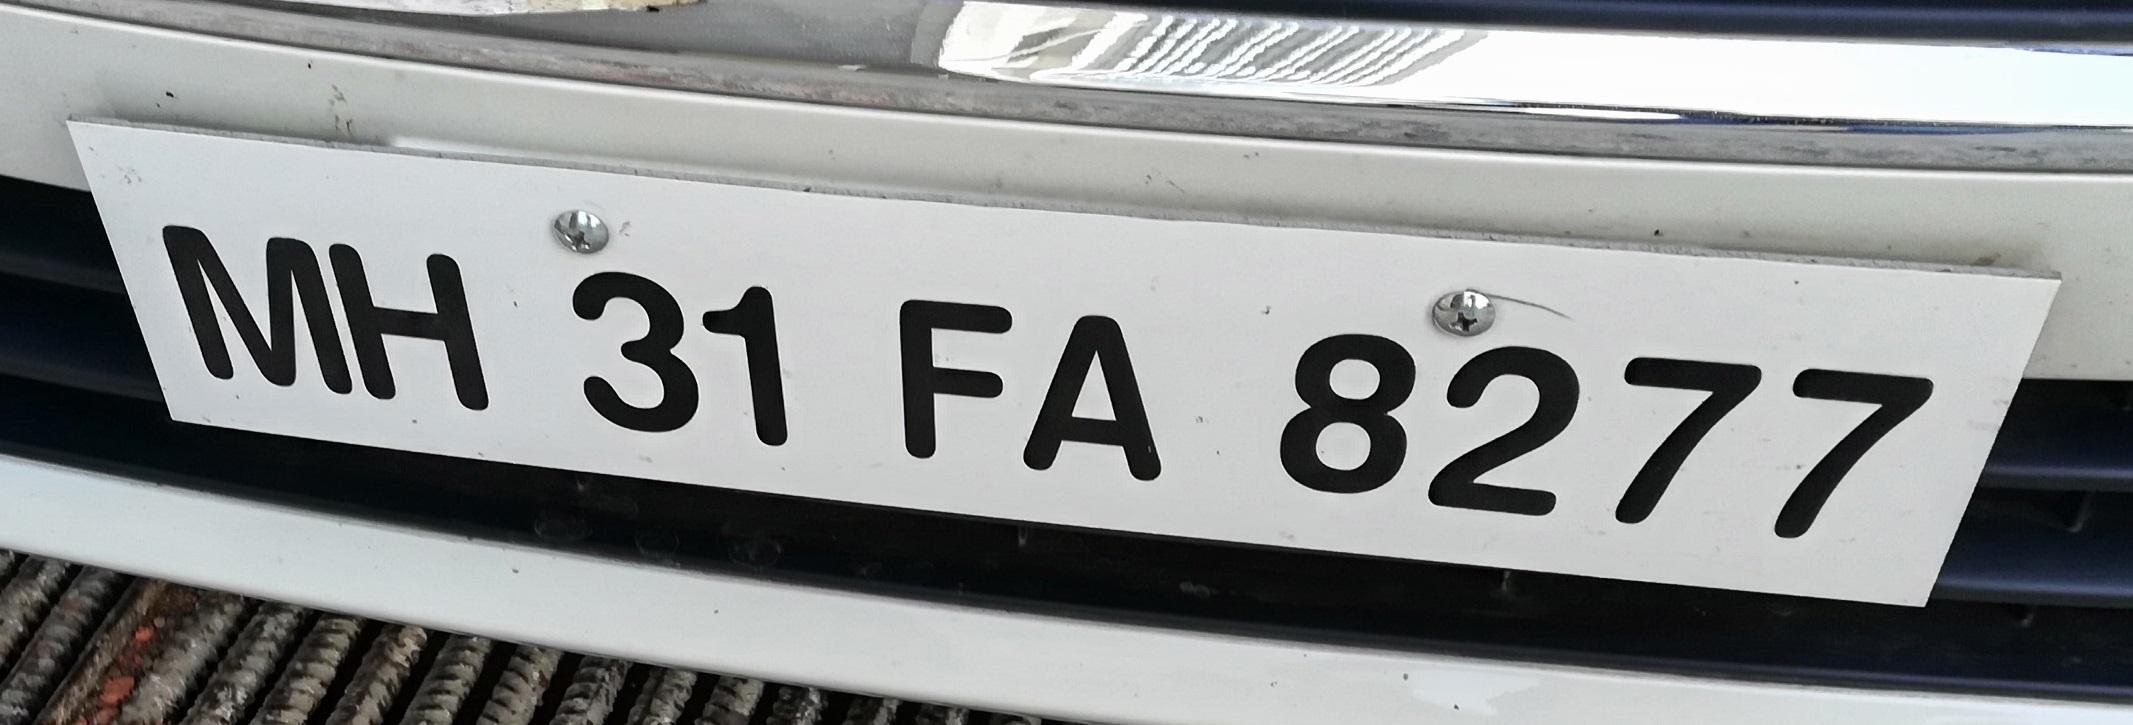numberplate: (63, 114, 2060, 611)
